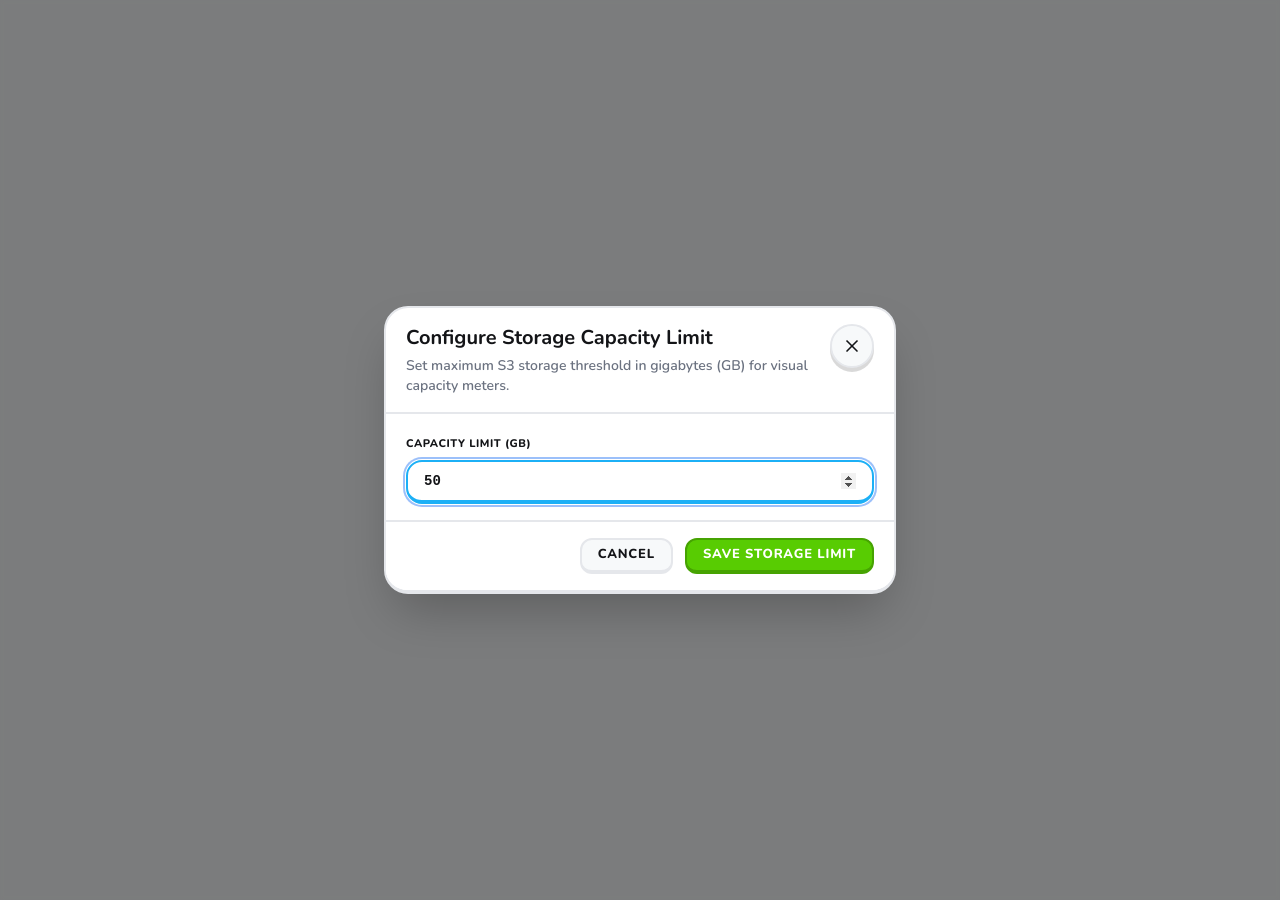
Scenario: Storage Management Console UI › StorageLimitDialog component › displays error message when entering invalid quota
The width and height of the screenshot is (1280, 900).
Replace the text in the number field labelled "Capacity Limit (GB)" with "-10" at (640, 482), box [406, 460, 874, 504]
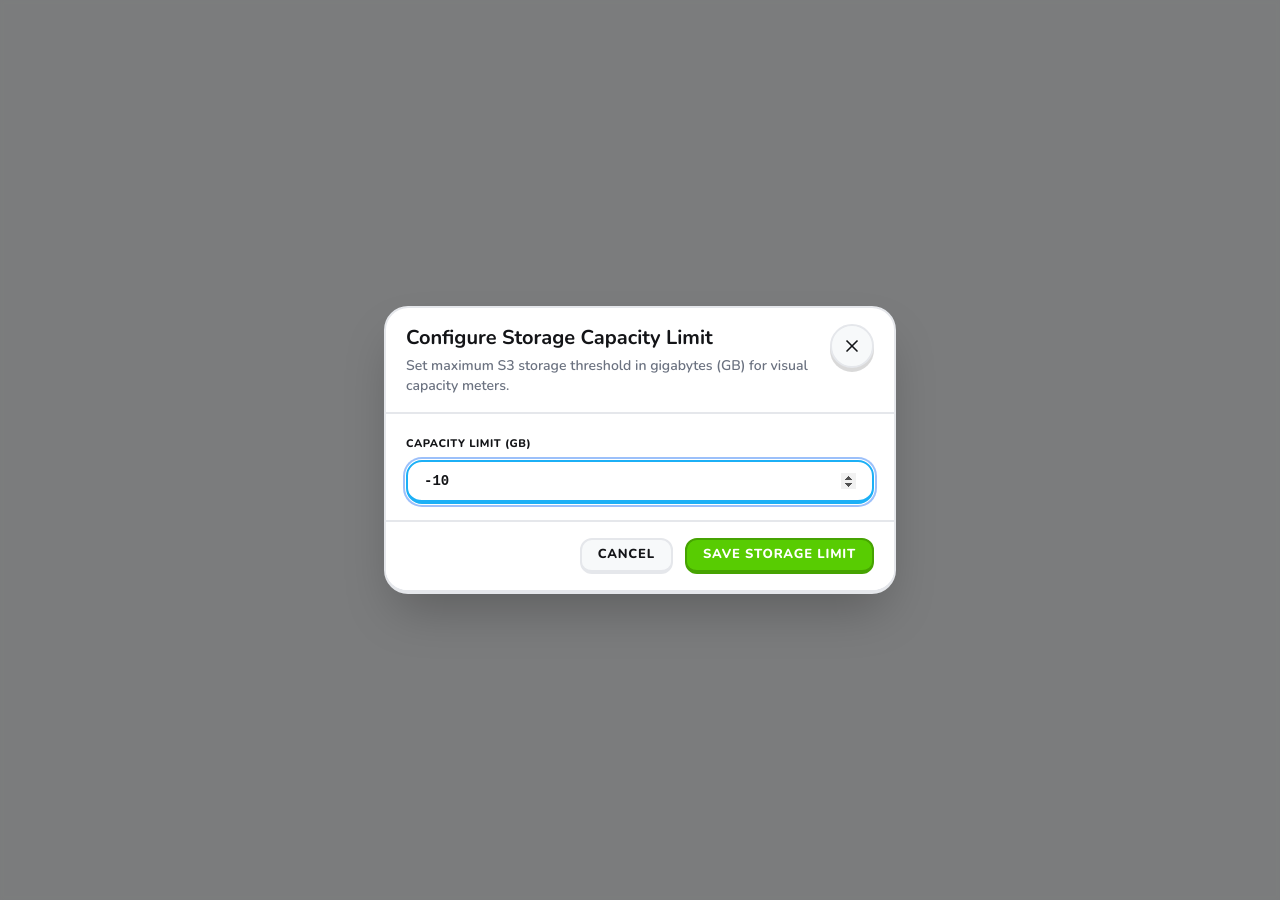
Click the button with test id "save-limit-btn".
click(779, 556)  # box [685, 538, 874, 574]
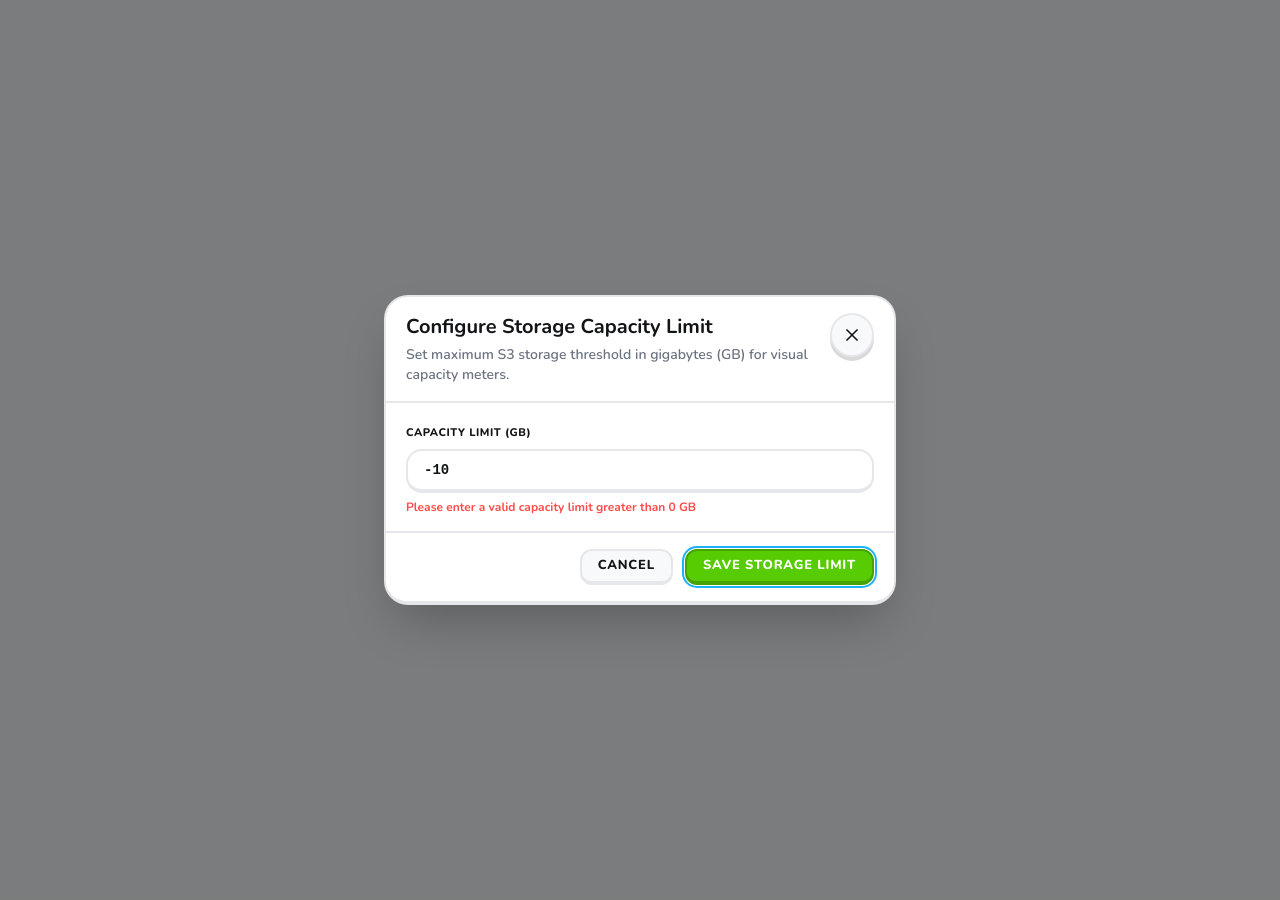
Check: the text "Please enter a valid capacity limit greater than 0 GB" is shown, box [406, 499, 696, 515]
